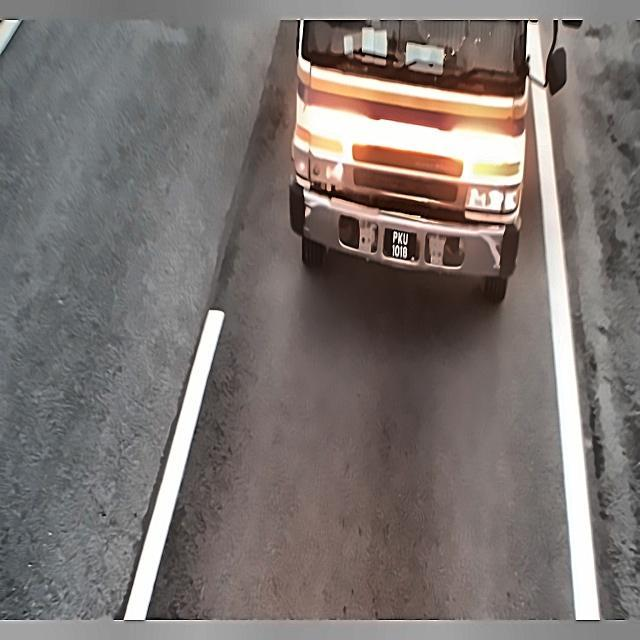car: (382, 224, 420, 262)
